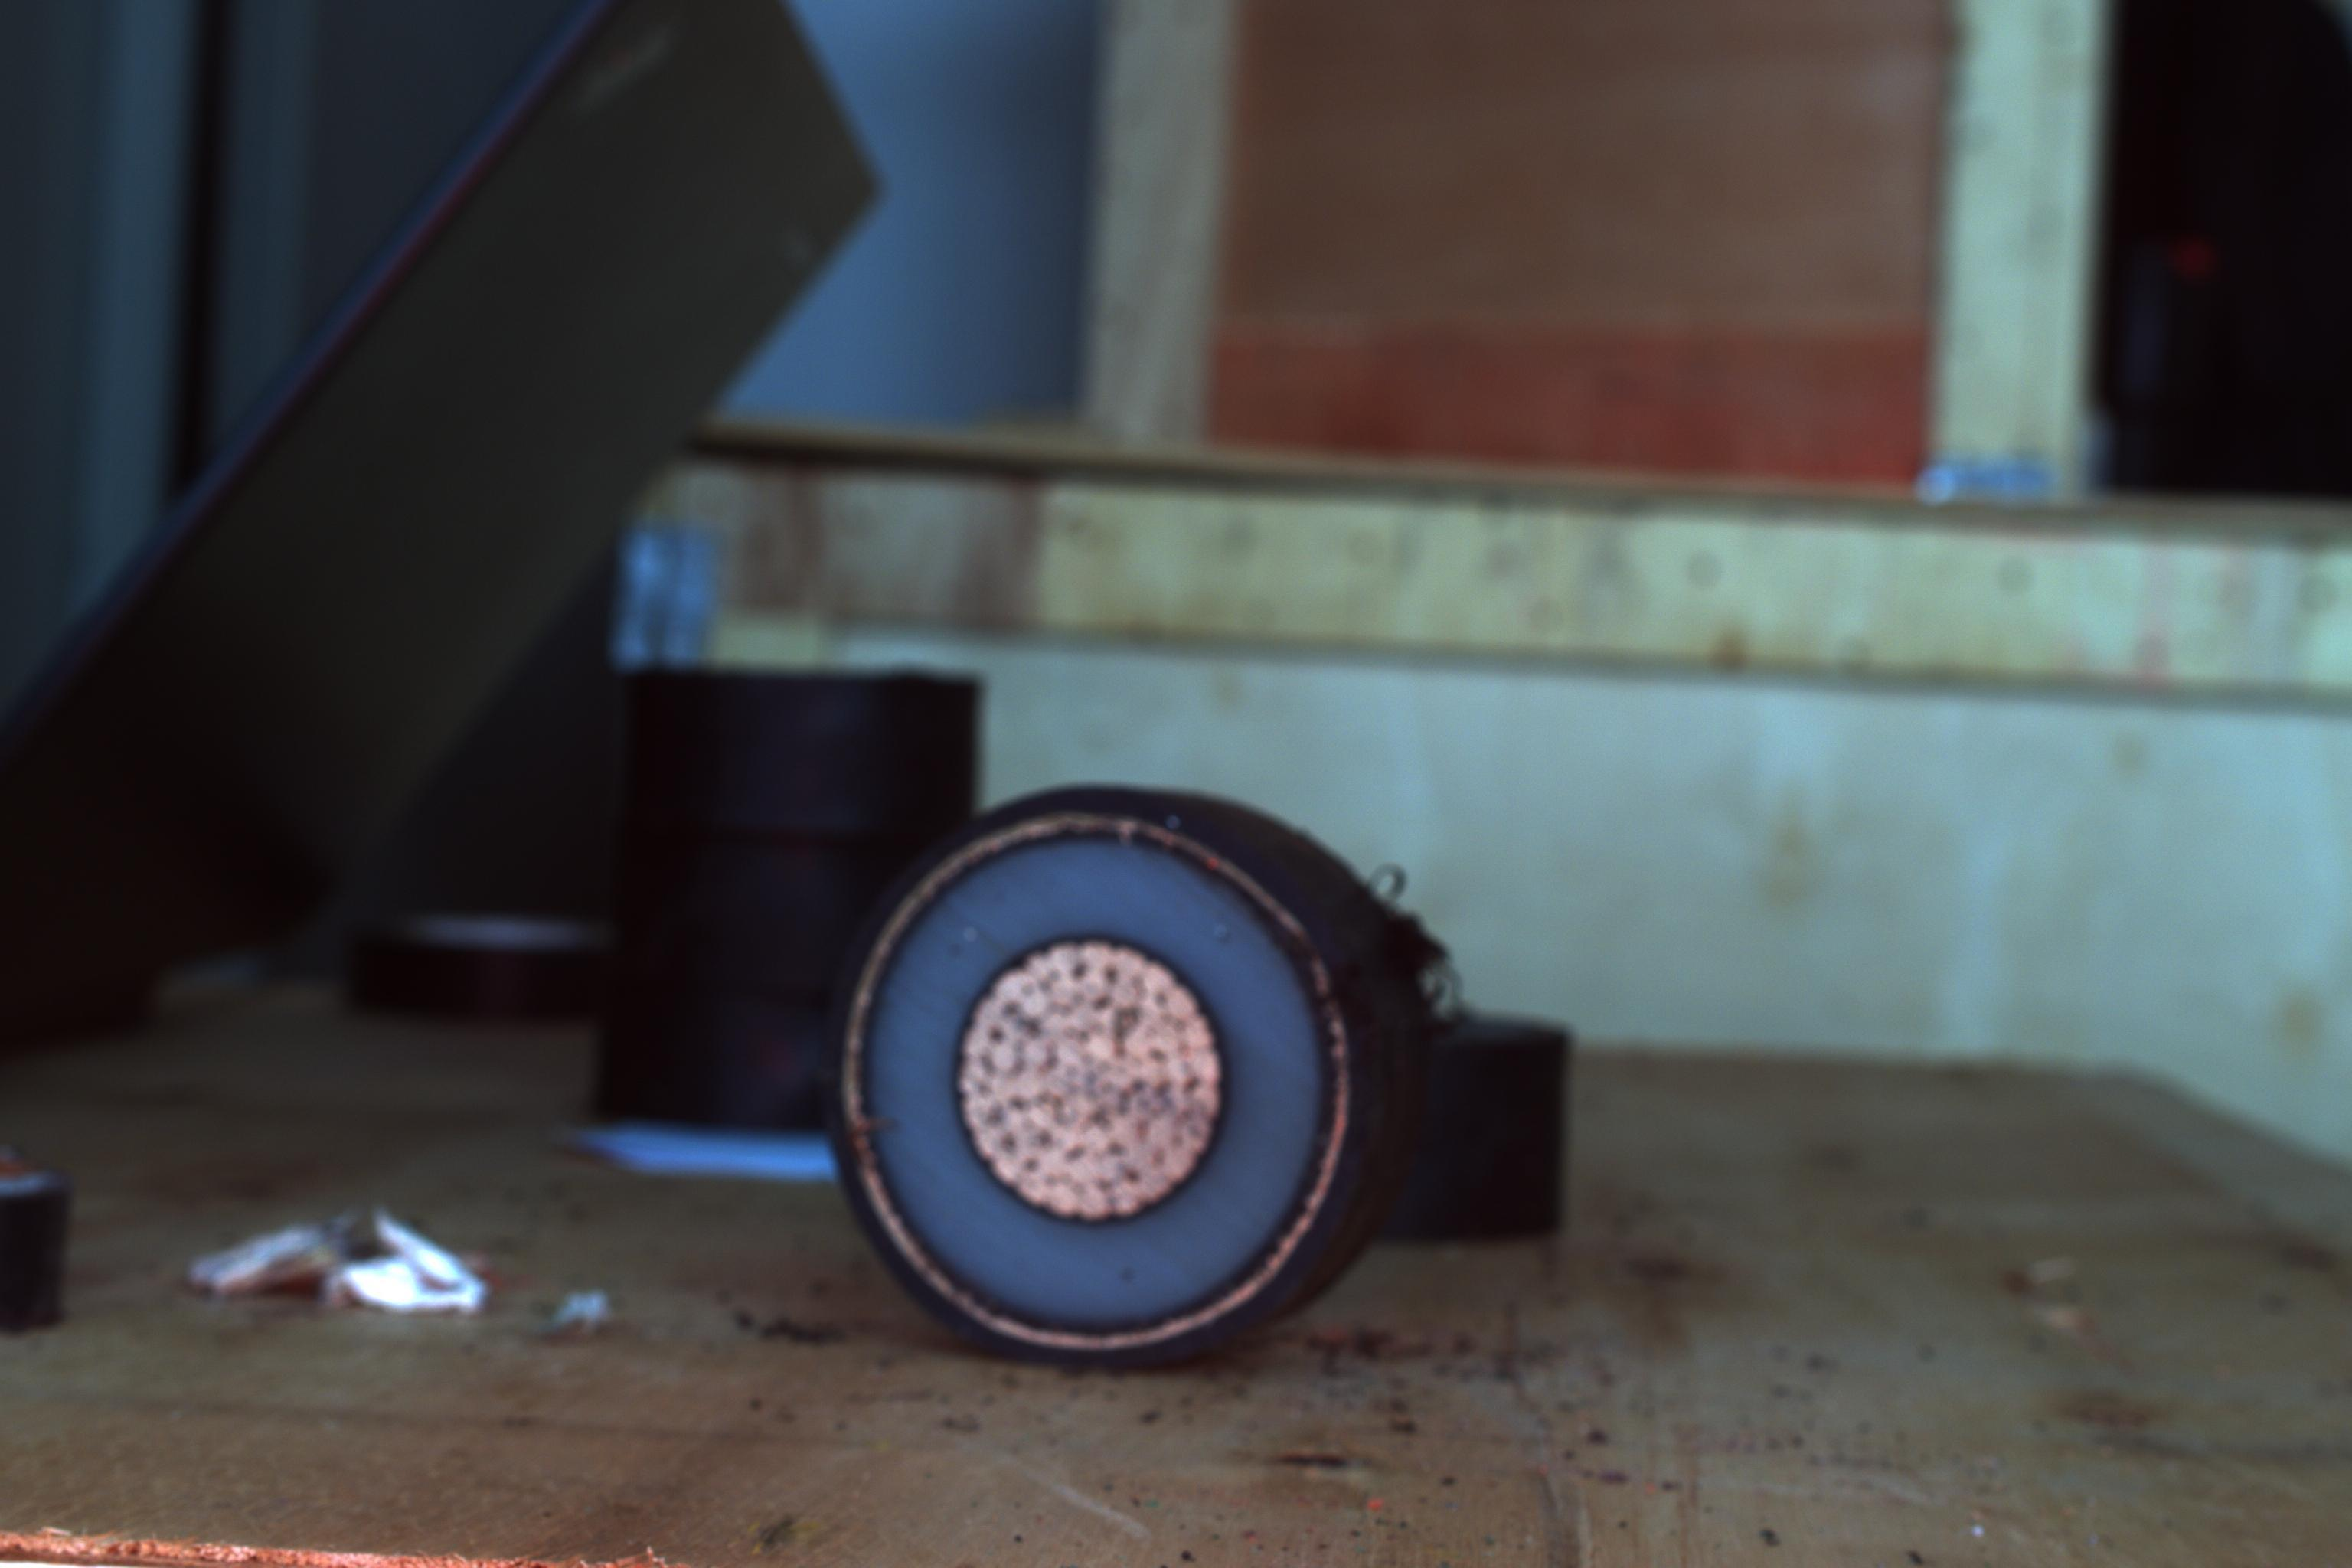YJV_26_35kV_1x630: (833, 808, 1353, 1353)
